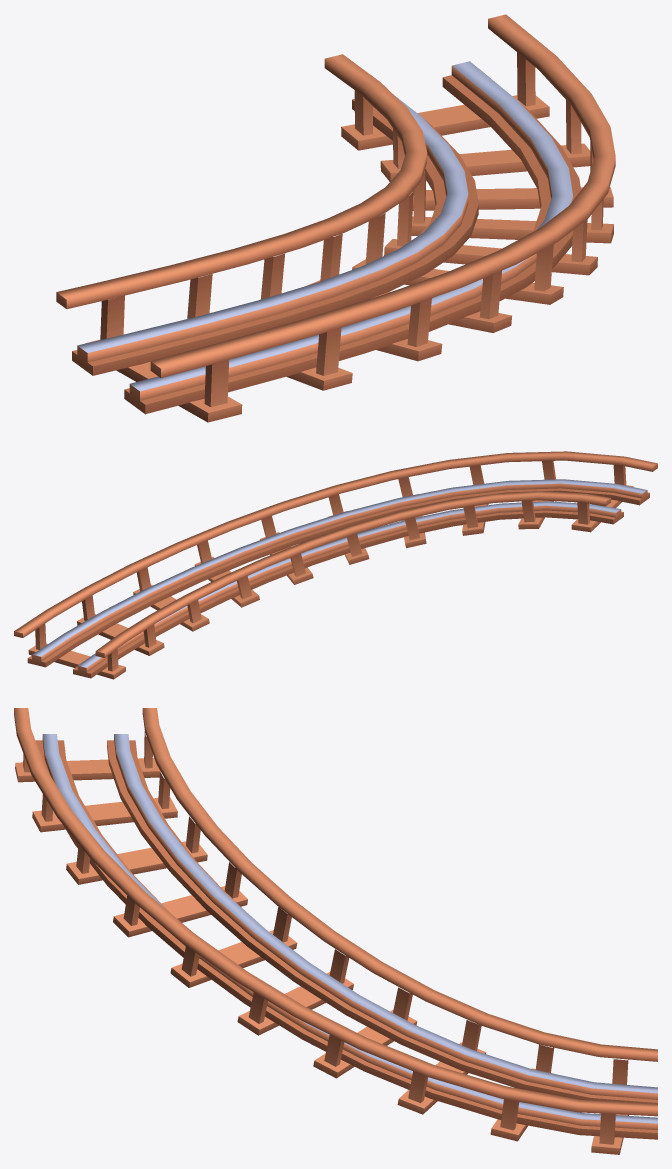
File: kenney-coaster-coaster-wood-corner-large-ramp.glb
The picture shows the model from 3 angles, top to bottom: view 1: azimuth 30°, elevation 25°; view 2: azimuth 150°, elevation 25°; view 3: azimuth 270°, elevation 25°; orthographic projection. The views are drawn at different scales.
Parts seen in each view (by area): view 1: coaster-wood-corner-large-ramp; view 2: coaster-wood-corner-large-ramp; view 3: coaster-wood-corner-large-ramp.
Boxes of the visible parts, x1,y1,x2,y2 form: coaster-wood-corner-large-ramp: (56, 14, 615, 422); coaster-wood-corner-large-ramp: (14, 451, 657, 679); coaster-wood-corner-large-ramp: (14, 708, 657, 1154).
Size of the model in its own units: 4.5 by 1.35 by 4.5.
1 material, 1 textured.
